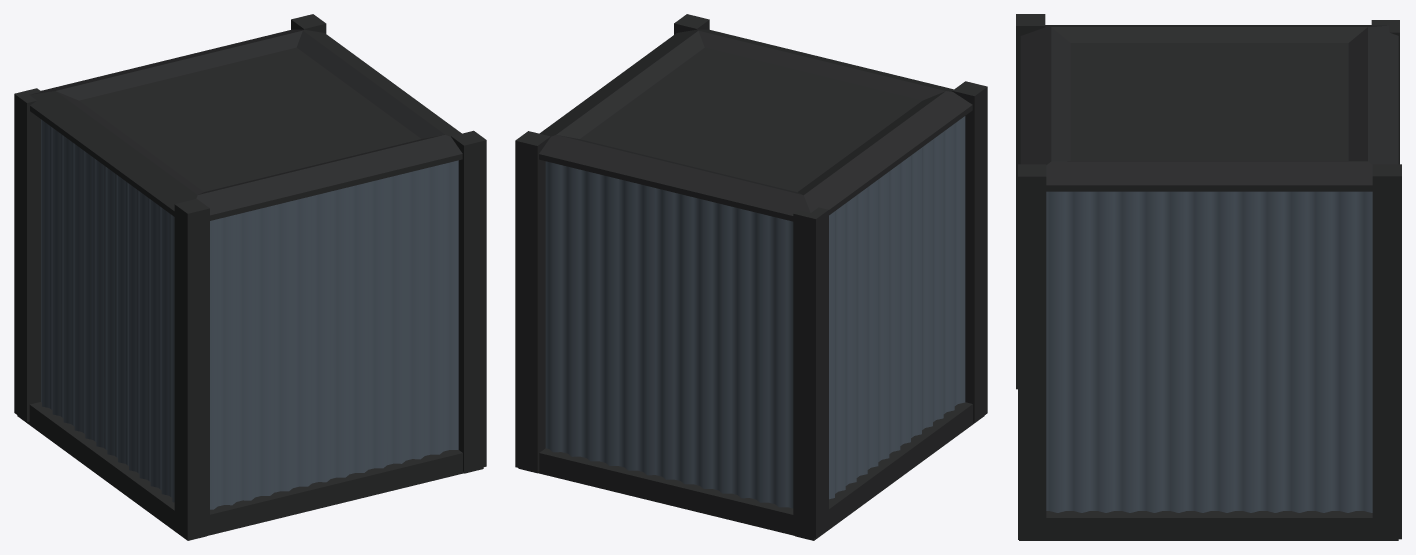
Rendered from SM_Taule.fbx.
3 renders of one model, left to right at view 1: azimuth 30°, elevation 25°; view 2: azimuth 150°, elevation 25°; view 3: azimuth 270°, elevation 25°, orthographic. The views are drawn at different scales.
Visible parts, largest first — view 1: Box009; view 2: Box009; view 3: Box009.
Boxes of the visible parts, box(x1,y1,x2,y2) form: Box009: box(14, 14, 486, 540); Box009: box(515, 14, 987, 540); Box009: box(1016, 14, 1401, 540).
Bounding box in the file's own units: 37.55 × 39.3 × 37.49.
